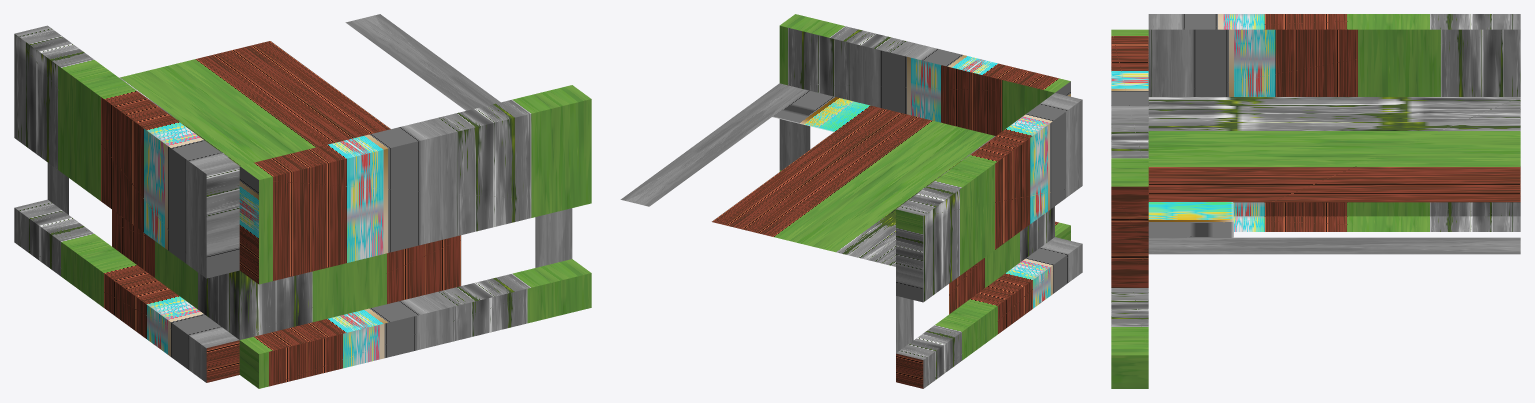
File: Roof_Corner.fbx
3 views of the same model, side by side, from view 1: azimuth 30°, elevation 25°; view 2: azimuth 150°, elevation 25°; view 3: azimuth 270°, elevation 25° (orthographic). The views are drawn at different scales.
Parts seen in each view (by area): view 1: Roof_Corner; view 2: Roof_Corner; view 3: Roof_Corner.
Boxes of the visible parts, x1,y1,x2,y2 form: Roof_Corner: [14, 14, 591, 388]; Roof_Corner: [620, 14, 1082, 388]; Roof_Corner: [1111, 14, 1520, 388].
Bounding box in the file's own units: 1.1 × 1.1 × 0.6.
